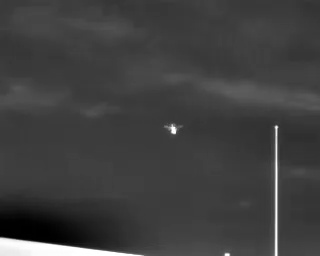HELICOPTER: (160, 119, 187, 140)
